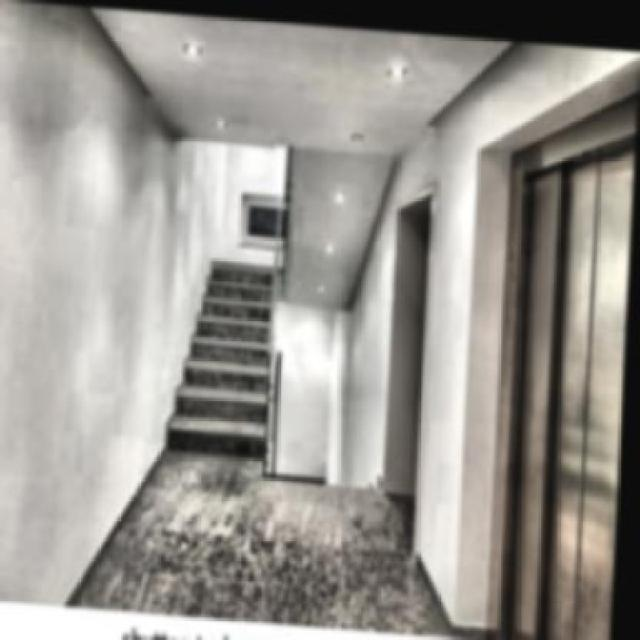stair: (165, 237, 283, 454)
